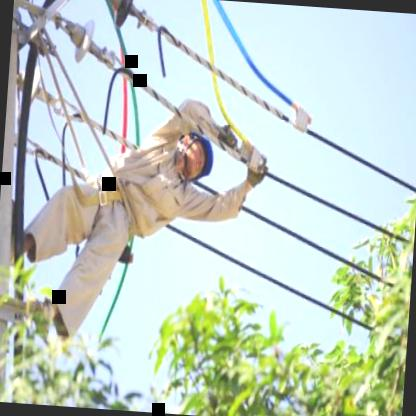helmet: (174, 121, 218, 188)
